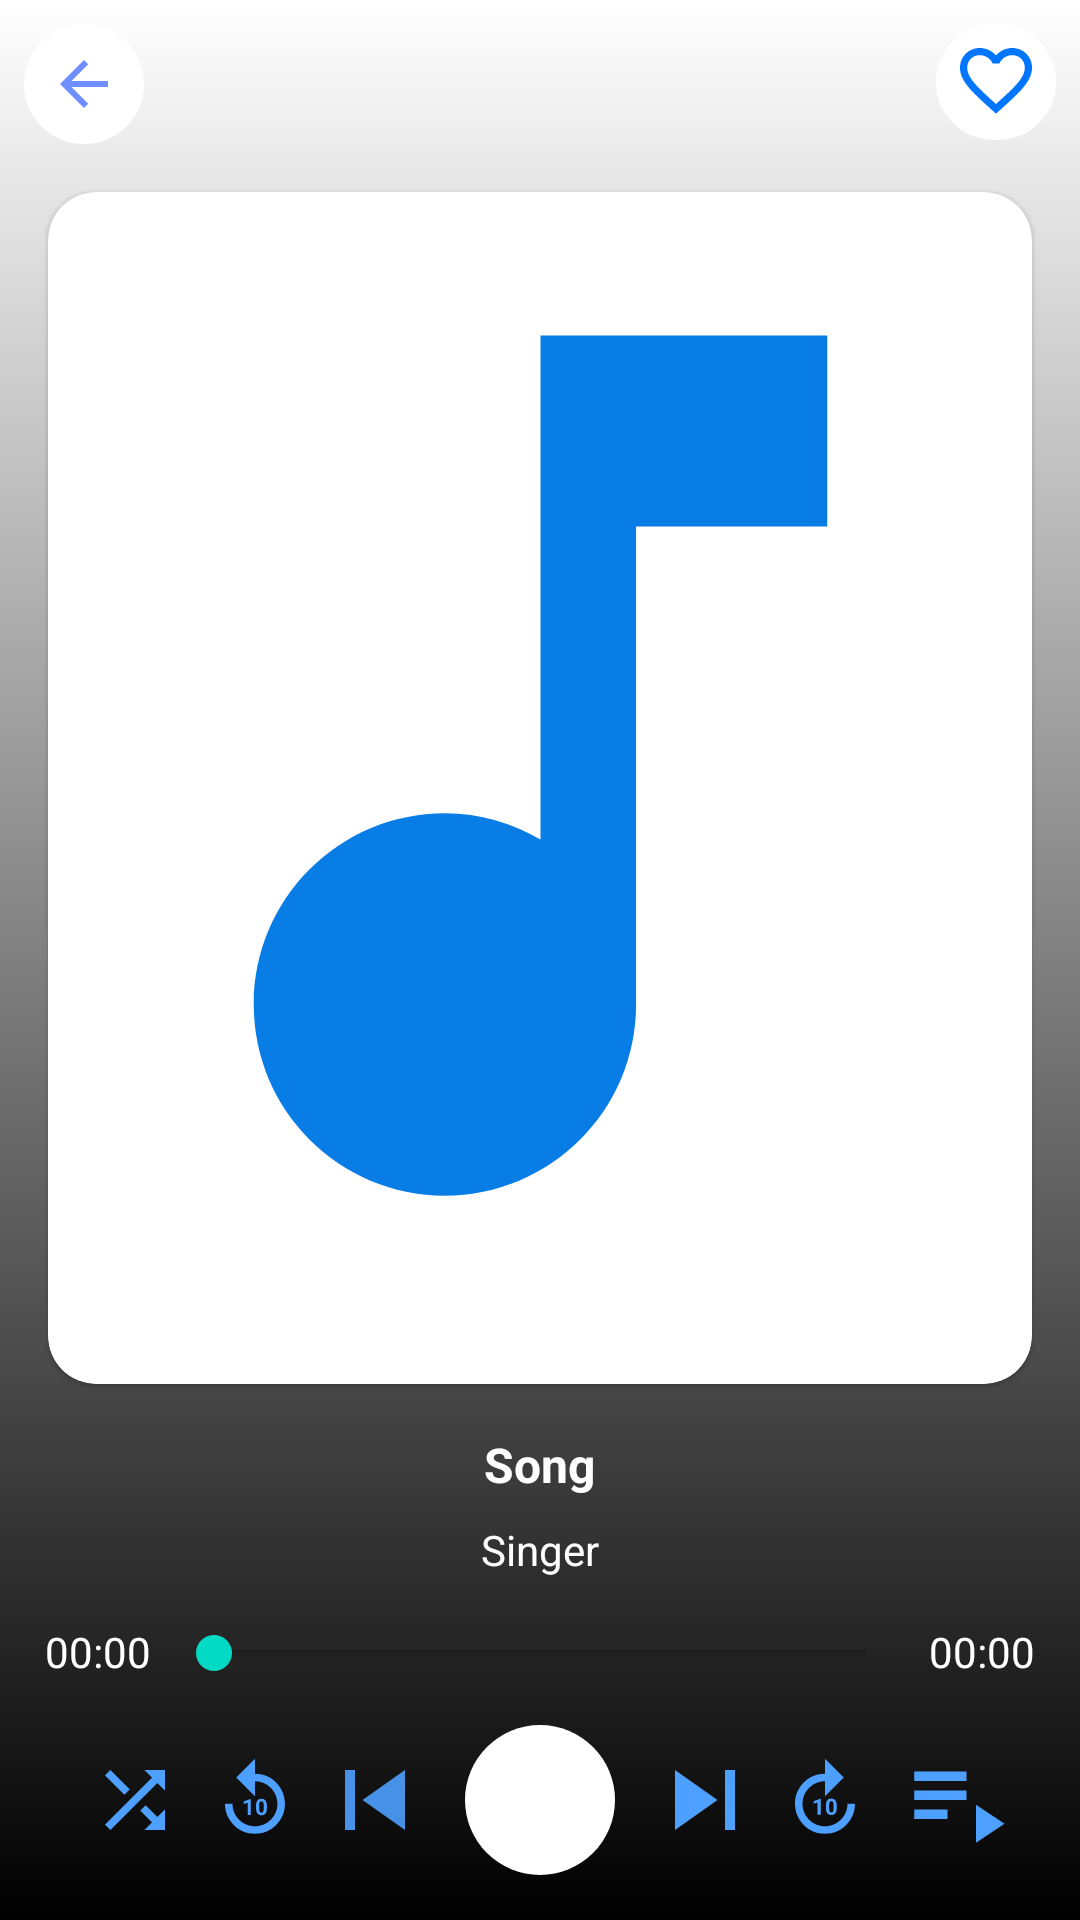

Screen size 1080*1920. Icon name, then its box in pixels as box=[x1, y1, x2, y2]:
arrow back: box=[60, 60, 108, 108]
forward: box=[795, 1759, 855, 1834]
like: box=[960, 48, 1032, 114]
playlist play: box=[914, 1771, 1005, 1843]
replay: box=[225, 1759, 285, 1834]
shuffle: box=[105, 1770, 165, 1830]
skip next: box=[675, 1770, 735, 1830]
skip previous: box=[345, 1770, 405, 1830]
